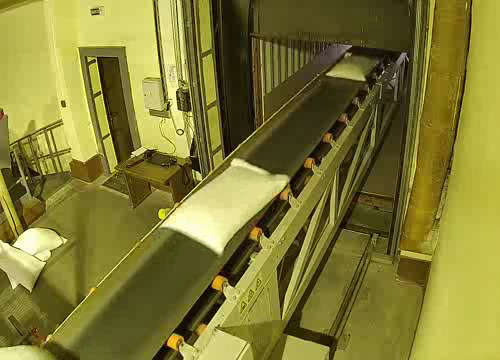bag: (157, 155, 297, 256), (326, 50, 382, 83), (0, 338, 66, 360)
